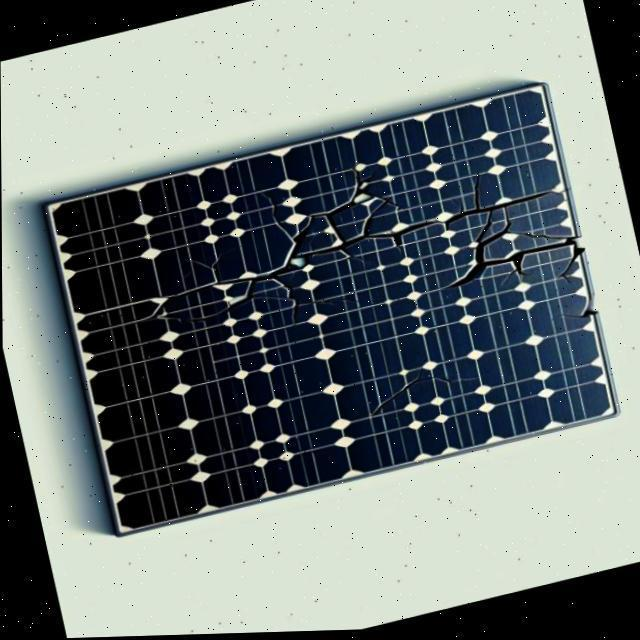Anomaly Solar Panel: (46, 87, 615, 534)
Structural Damage: (114, 129, 576, 354), (357, 350, 483, 420), (155, 278, 256, 327), (550, 250, 585, 292), (545, 313, 589, 324)
